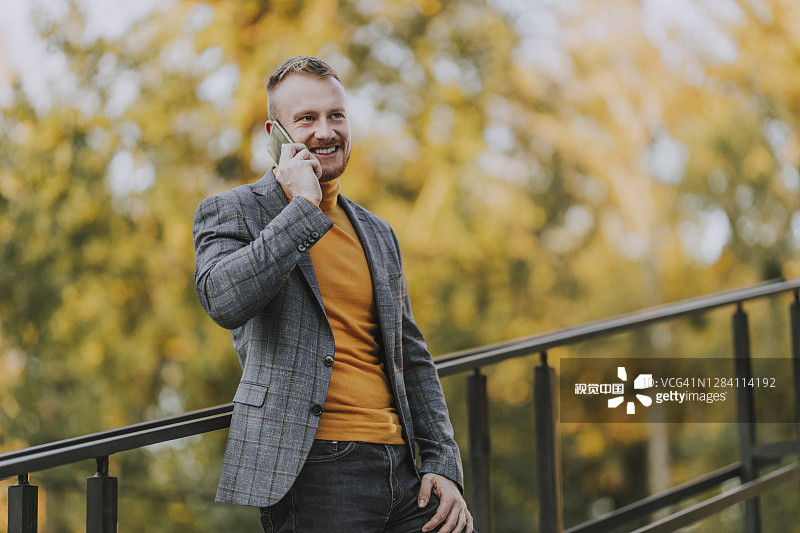calling: (247, 119, 339, 213)
